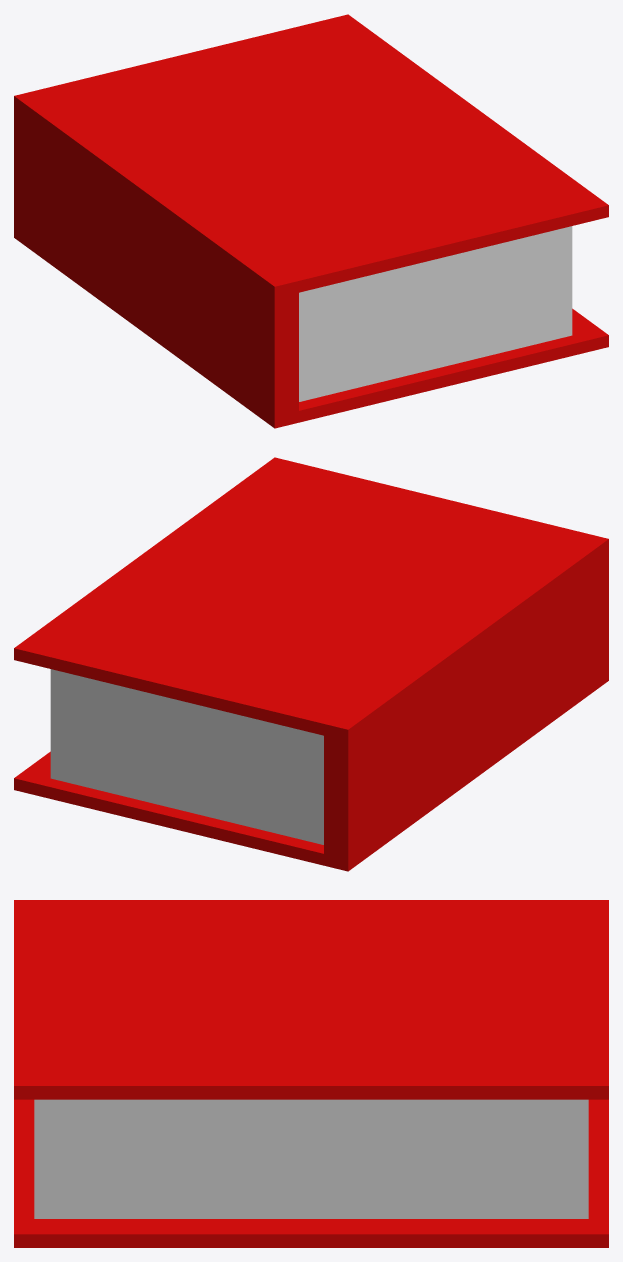
The model's file is book1.fbx.
3 renders of one model, top to bottom at view 1: azimuth 30°, elevation 25°; view 2: azimuth 150°, elevation 25°; view 3: azimuth 270°, elevation 25°, orthographic. The views are drawn at different scales.
Visible parts, largest first — view 1: Cube, 立方体.001; view 2: Cube, 立方体.001; view 3: Cube, 立方体.001.
Part boxes in pixels (x1,y1,x2,y2): Cube: [14, 14, 608, 428]; 立方体.001: [299, 226, 572, 401]; Cube: [14, 457, 608, 871]; 立方体.001: [50, 669, 323, 844]; Cube: [14, 900, 608, 1247]; 立方体.001: [34, 1099, 588, 1218].
Bounding box in the file's own units: 148 × 60 × 200.
